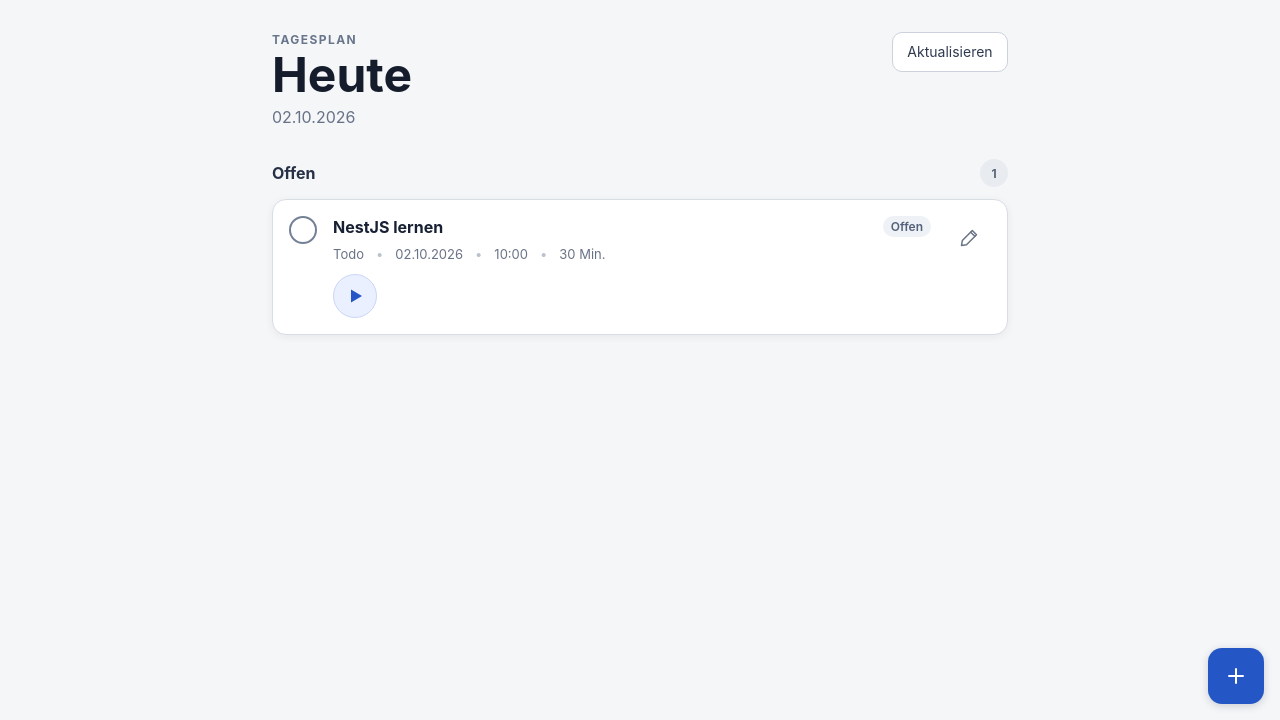
Test: TodayView › completes a todo and reloads the planner
The width and height of the screenshot is (1280, 720).
Click the button named "NestJS lernen erledigen" at (303, 230), box [289,216,317,244]
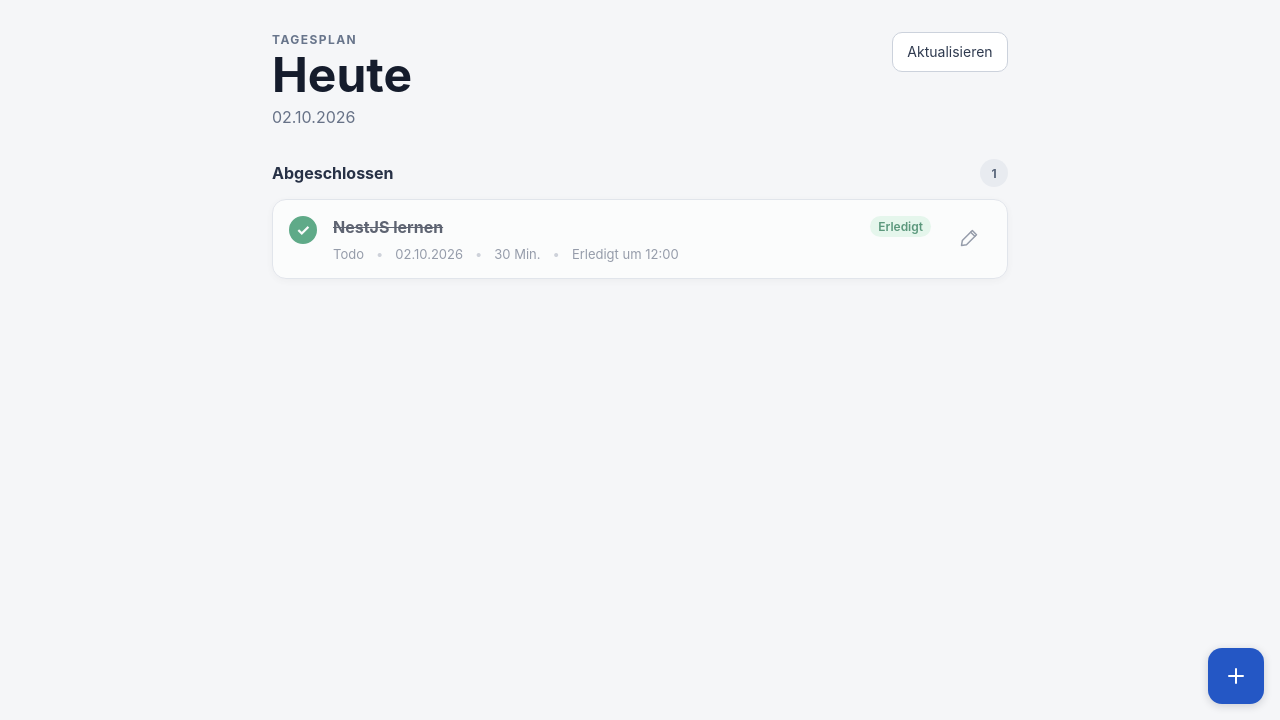
Now the text "Erledigt" is shown, box [870,216,931,237]
